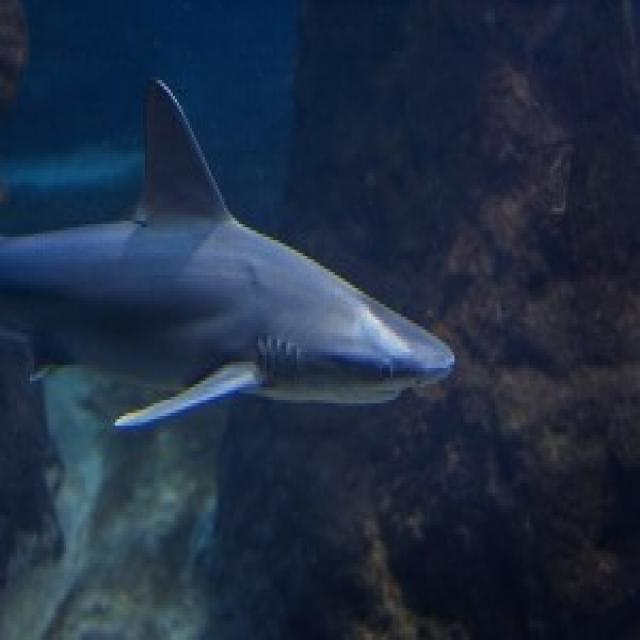Shark: (1, 32, 461, 463)
